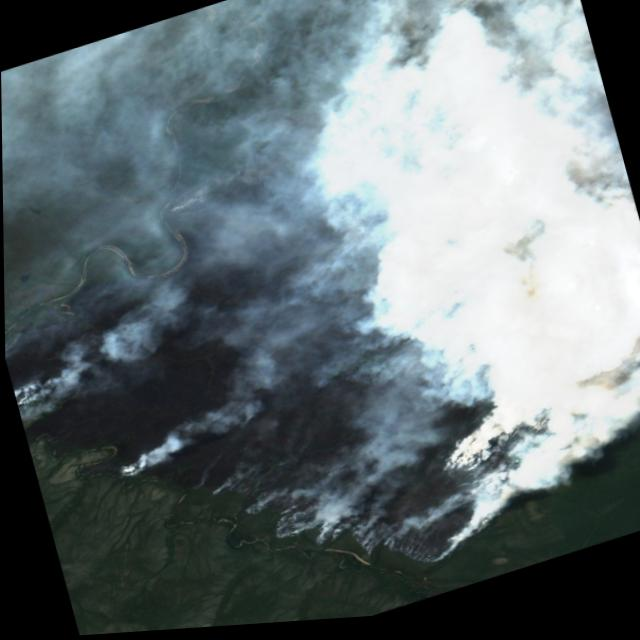fire: (0, 4, 640, 640)
